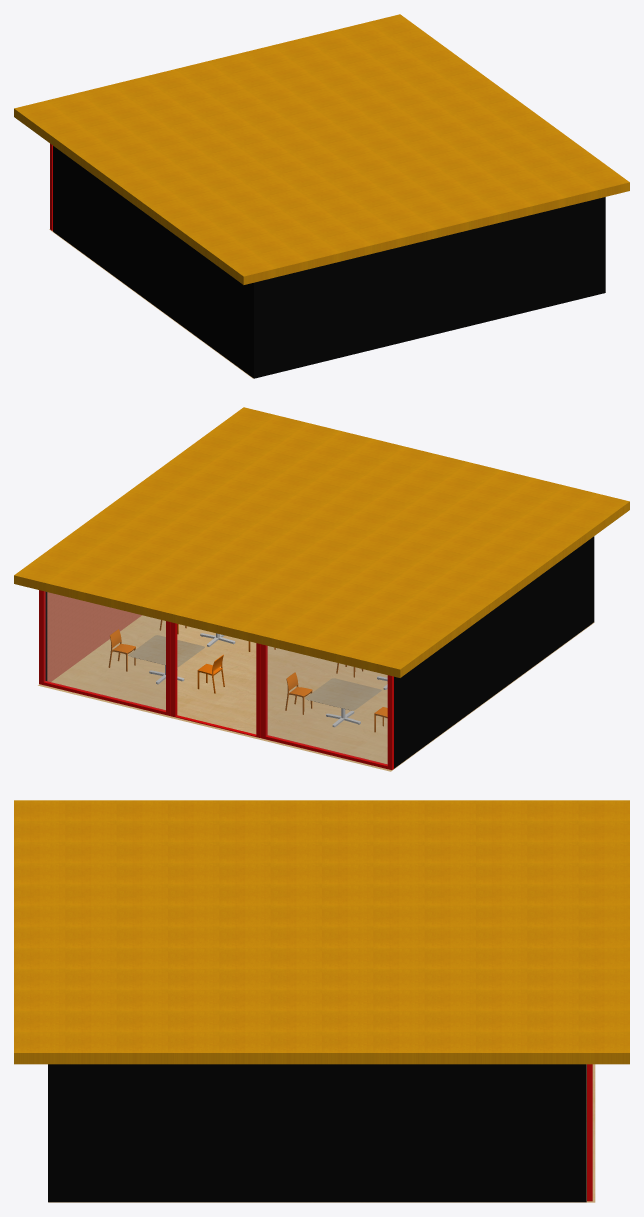
Rendered from KTC.glb.
The picture shows the model from 3 angles, top to bottom: view 1: azimuth 30°, elevation 25°; view 2: azimuth 150°, elevation 25°; view 3: azimuth 270°, elevation 25°; orthographic projection. The views are drawn at different scales.
Parts seen in each view (by area): view 1: node_Ceiling_-91360, node_Wall 5 (2)_-20702, node_Wall 5 (1)_-15456; view 2: node_Ceiling_-91360, node_Windows_-38570, node_Plane_-14380, node_Wall 5 (1)_-15456, node_Wall 5_-15142, node_Table_-67892, node_Table_-67764; view 3: node_Ceiling_-91360, node_Wall 5_-15142, node_Plane_-14380, node_Wall 5 (2)_-20702, node_Windows_-38570.
Boxes of the visible parts, bbox=[...] form: node_Ceiling_-91360: bbox=[14, 14, 629, 284]; node_Wall 5 (2)_-20702: bbox=[251, 197, 605, 378]; node_Wall 5 (1)_-15456: bbox=[53, 146, 251, 376]; node_Ceiling_-91360: bbox=[14, 407, 629, 677]; node_Windows_-38570: bbox=[39, 590, 393, 769]; node_Plane_-14380: bbox=[38, 615, 594, 771]; node_Wall 5 (1)_-15456: bbox=[394, 538, 591, 768]; node_Wall 5_-15142: bbox=[45, 592, 141, 681]; node_Table_-67892: bbox=[305, 678, 381, 727]; node_Table_-67764: bbox=[128, 635, 204, 684]; node_Ceiling_-91360: bbox=[14, 800, 629, 1064]; node_Wall 5_-15142: bbox=[54, 1064, 586, 1202]; node_Plane_-14380: bbox=[49, 1064, 595, 1202]; node_Wall 5 (2)_-20702: bbox=[48, 1064, 53, 1202]; node_Windows_-38570: bbox=[587, 1064, 592, 1201].
Size of the model in its own units: 10.94 by 3.17 by 11.27.
22 materials, 13 textured.
